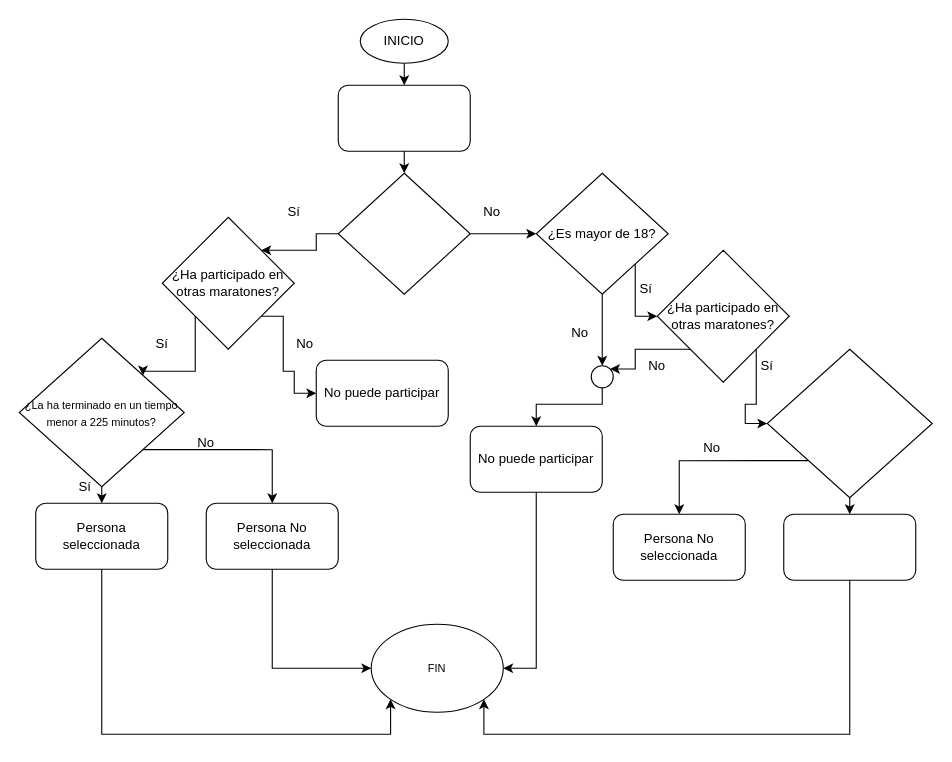
Image size: 952x762. Some labels were removed from this diagram. The shapes that lost their labels are listed below. From the top down, each one's centre as x and y in pixels, then its label:
point 403,117: "Introduzca su edad"
point 403,233: ¿Es mayor de 35? (edad >= 35)
point 849,423: ¿La ha terminado en un tiempo menor a 190 minutos?
point 849,546: Puede participar
